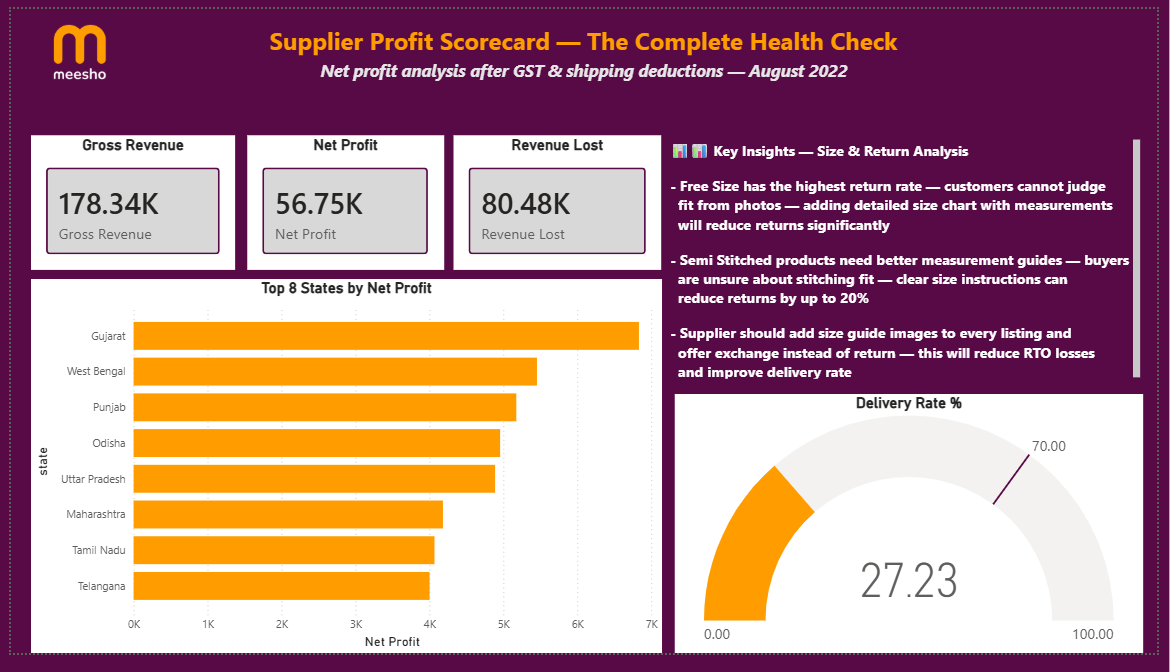

The dashboard page shown, as its layout file describes it:
{"tool":"powerbi","page":{"name":" Profit Scorecard","canvas":[1280,720],"ordinal":4},"visuals":[{"type":"textbox","box":[279.9,12.3,717.7,57.6],"z":0},{"type":"image","box":[0,5.5,127.1,84.7],"z":1000},{"type":"textbox","box":[338.9,50.8,601,39.8],"z":2000},{"type":"cardVisual","title":"Gross Revenue","fields":{"Data":["orders.Gross Revenue"]},"box":[21.9,140.7,228.2,150.3],"z":3000},{"type":"cardVisual","title":"Net Profit","fields":{"Data":["orders.Net Profit"]},"box":[263.7,140.7,220,150.3],"z":4000},{"type":"cardVisual","title":"Revenue Lost","fields":{"Data":["orders.Revenue Lost"]},"box":[494.6,140.7,232.3,150.3],"z":5000},{"type":"gauge","title":"Delivery Rate %","fields":{"Y":["orders.Delivery Rate"]},"box":[741.9,430.4,523.3,289.7],"z":6000},{"type":"clusteredBarChart","title":"Top 8 States by Net Profit","fields":{"Category":["orders.state"],"Y":["orders.Net Profit"]},"box":[21.9,302,705,418.1],"z":7000},{"type":"textbox","box":[731,140.7,534.2,277.4],"z":8000}]}

Visuals, with their boxes in screenshot pixels (x1, y1, x2, y2), scaled from the page's 1280x720 canvas onto the 1170x672 screenshot:
textbox: Rect(256, 11, 912, 65)
image: Rect(0, 5, 116, 84)
textbox: Rect(310, 47, 859, 85)
"Gross Revenue" cardVisual: Rect(20, 131, 229, 272)
"Net Profit" cardVisual: Rect(241, 131, 442, 272)
"Revenue Lost" cardVisual: Rect(452, 131, 664, 272)
"Delivery Rate %" gauge: Rect(678, 402, 1156, 671)
"Top 8 States by Net Profit" clusteredBarChart: Rect(20, 282, 664, 671)
textbox: Rect(668, 131, 1156, 390)
